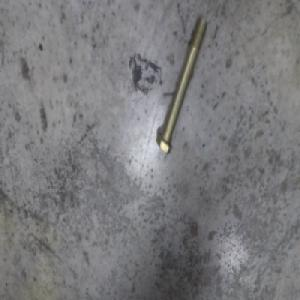Bolt: (157, 22, 206, 153)
